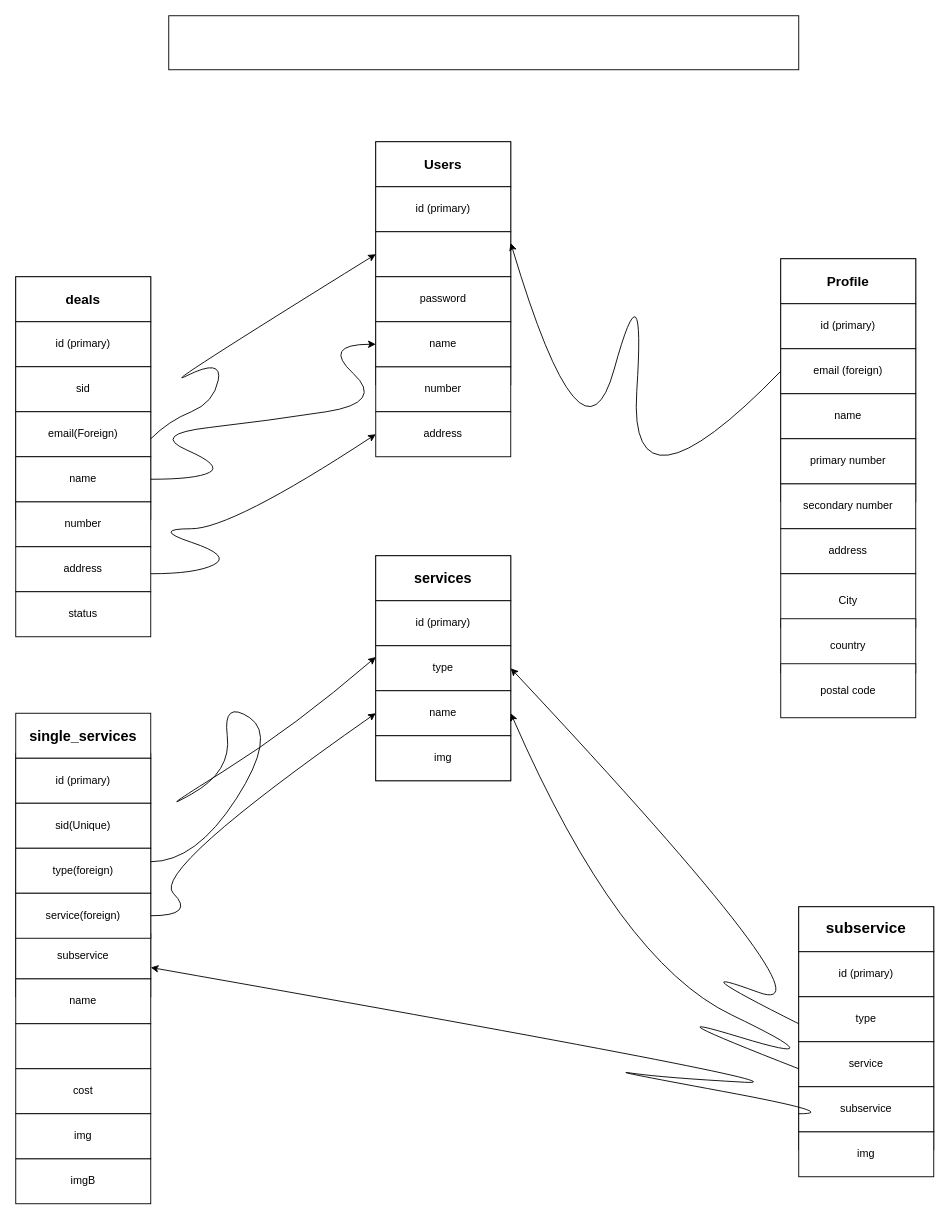
This 950x1220 diagram has some shape labels left out. Here are the shapes that lost their labels. From the top down, the box of each, then its label:
(168, 15, 799, 70): EasyRent Schema Diagram
(375, 231, 511, 277): email (unique)
(15, 1023, 151, 1069): description
